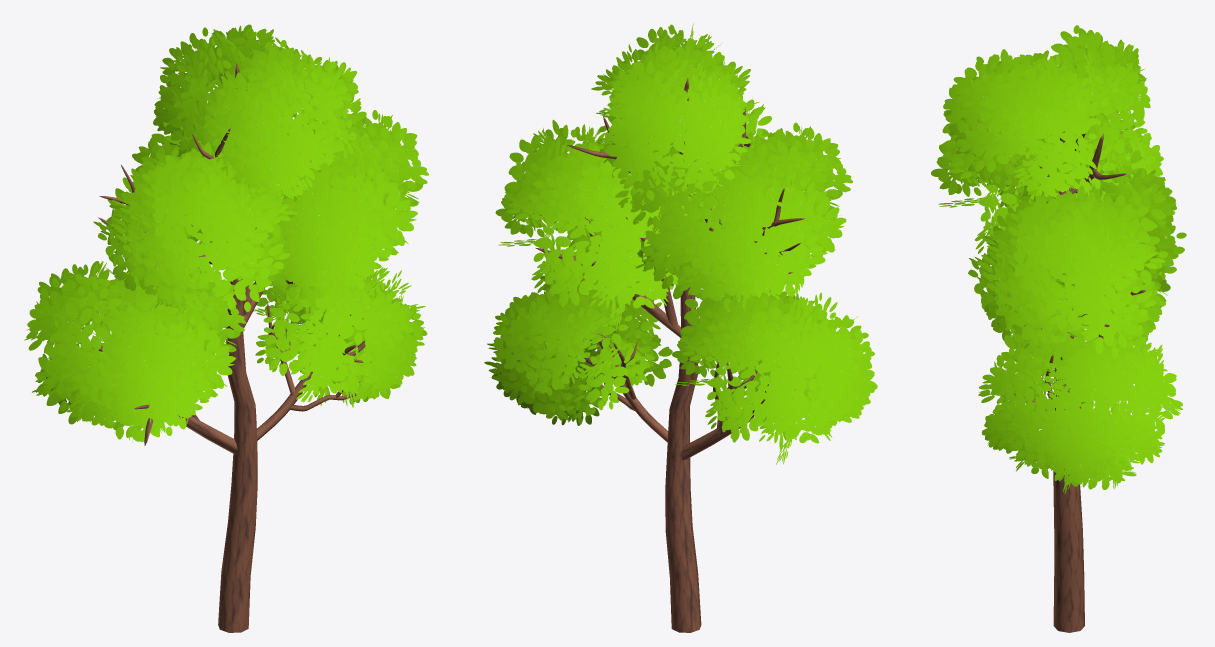
Rendered from quaternius-ultimate-stylized-nature-normal-tree-2.glb.
3 renders of one model, left to right at view 1: azimuth 30°, elevation 25°; view 2: azimuth 150°, elevation 25°; view 3: azimuth 270°, elevation 25°, orthographic. The views are drawn at different scales.
Visible parts, largest first — view 1: NormalTree_2; view 2: NormalTree_2; view 3: NormalTree_2.
Part boxes in pixels (left/top/right/bottom): NormalTree_2: left=24, top=24, right=428, bottom=632; NormalTree_2: left=484, top=23, right=877, bottom=632; NormalTree_2: left=931, top=25, right=1186, bottom=632.
Size of the model in its own units: 4.55 by 6.56 by 2.79.
Materials: 2 (2 with a texture image).
